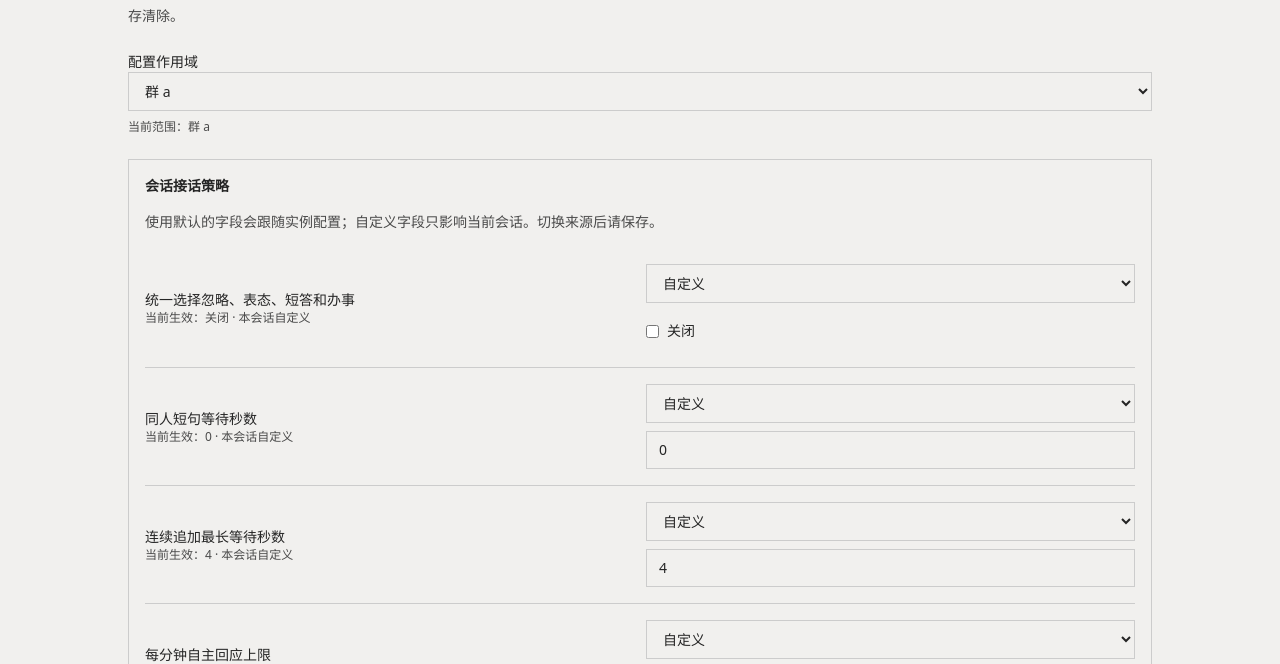
it: 写完之后重读没成 › 会话覆盖存上了却读不懂回执、重读也没成时，照样说已保存
The width and height of the screenshot is (1280, 664).
Click the checkbox labelled "统一选择忽略、表态、短答和办事".
click(652, 331)  # box [646,324,659,338]
(page scrolled)
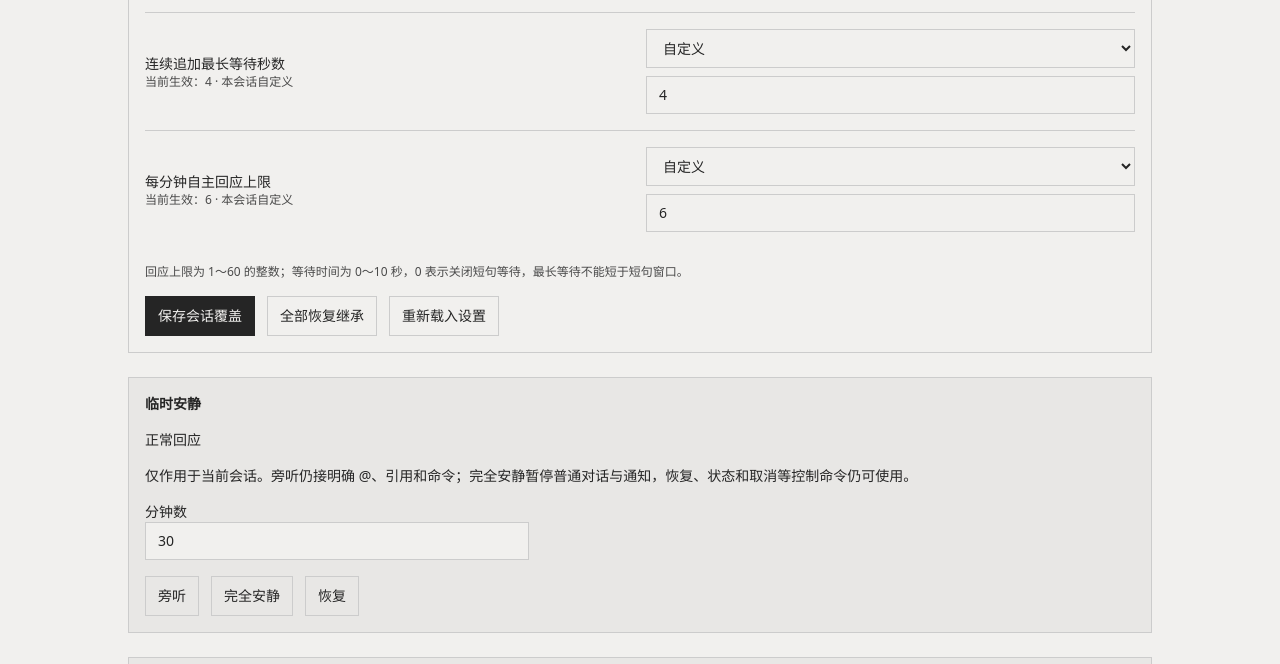
Click the button "保存会话覆盖".
click(200, 316)  # box [145,296,255,336]
(page scrolled)
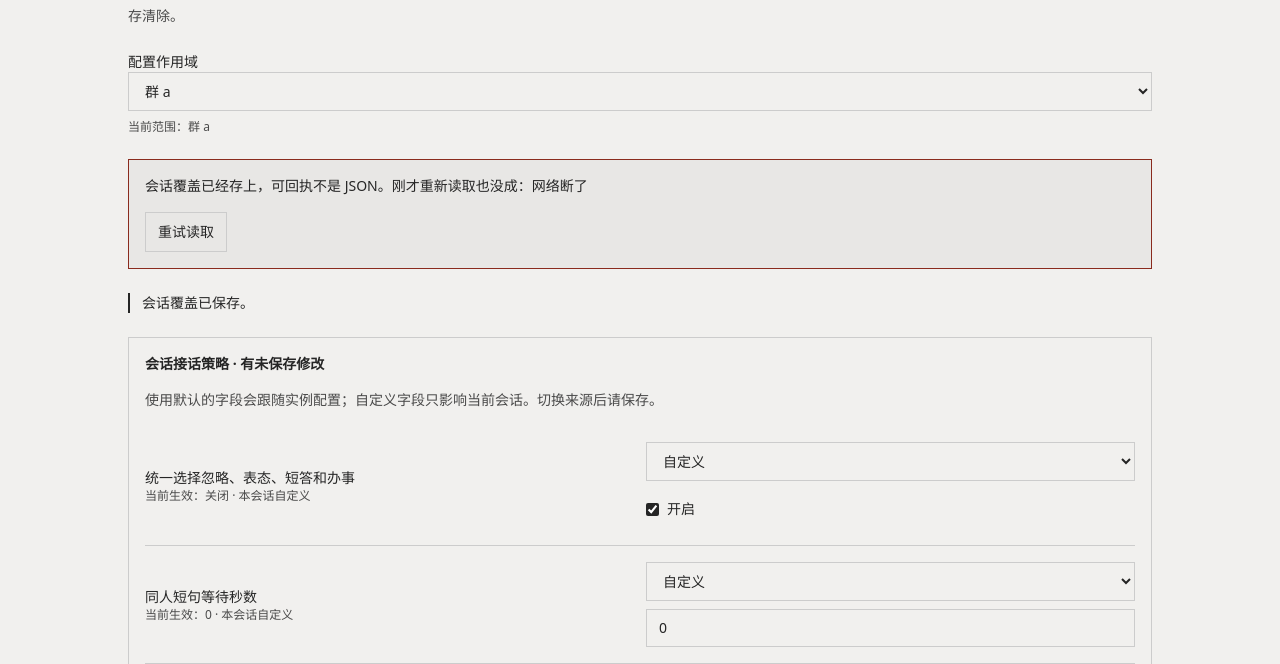
Expected: the text "会话覆盖已保存。" is shown, [128,293,1152,313]
Expected: the message "会话覆盖已经存上，可回执不是 JSON。刚才重新读取也没成：网络断了 重试读取" is shown, [128,159,1152,269]
